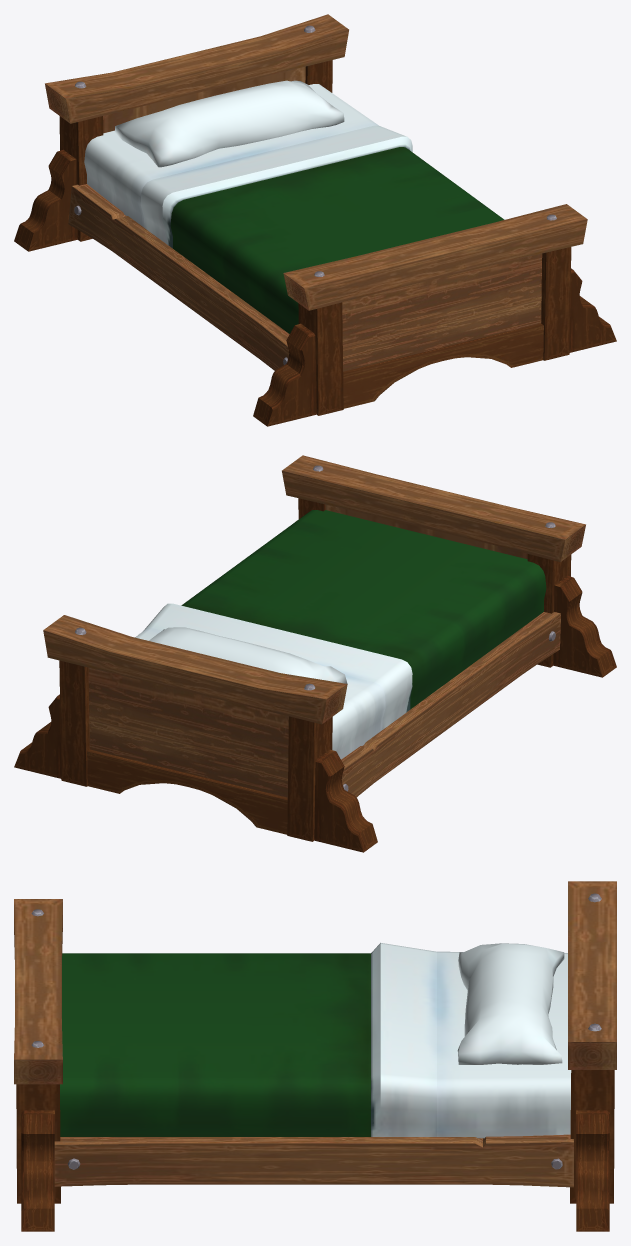
The model's file is prop_bed_twin2.glb.
The picture shows the model from 3 angles, top to bottom: view 1: azimuth 30°, elevation 25°; view 2: azimuth 150°, elevation 25°; view 3: azimuth 270°, elevation 25°; orthographic projection. The views are drawn at different scales.
Parts seen in each view (by area): view 1: Cube217, Cube217_2; view 2: Cube217, Cube217_2; view 3: Cube217_2, Cube217, Cube217_1.
Part boxes in pixels (x1=…): Cube217: x1=14, y1=14, x2=616, y2=426; Cube217_2: x1=84, y1=80, x2=504, y2=333; Cube217: x1=14, y1=455, x2=616, y2=852; Cube217_2: x1=135, y1=510, x2=546, y2=759; Cube217_2: x1=60, y1=942, x2=571, y2=1138; Cube217: x1=14, y1=881, x2=616, y2=1231; Cube217_1: x1=31, y1=893, x2=601, y2=1169.
Bounding box in the file's own units: 1.88 × 0.7596 × 2.41.
Materials: 3 (3 with a texture image).
